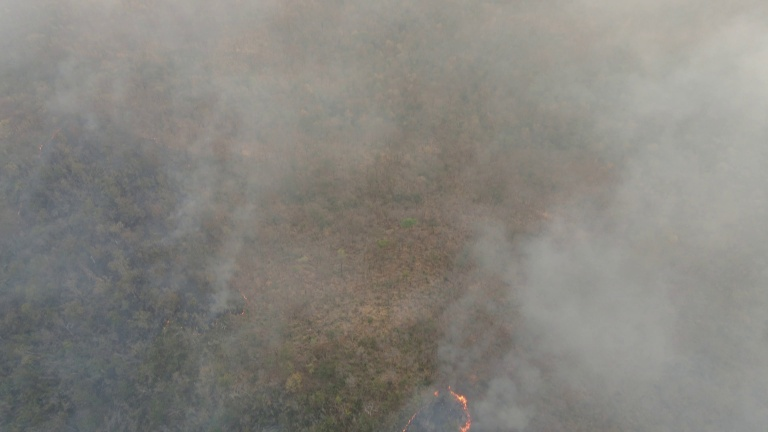fire: (397, 386, 477, 432)
smoke: (444, 2, 768, 432), (1, 1, 443, 222)
